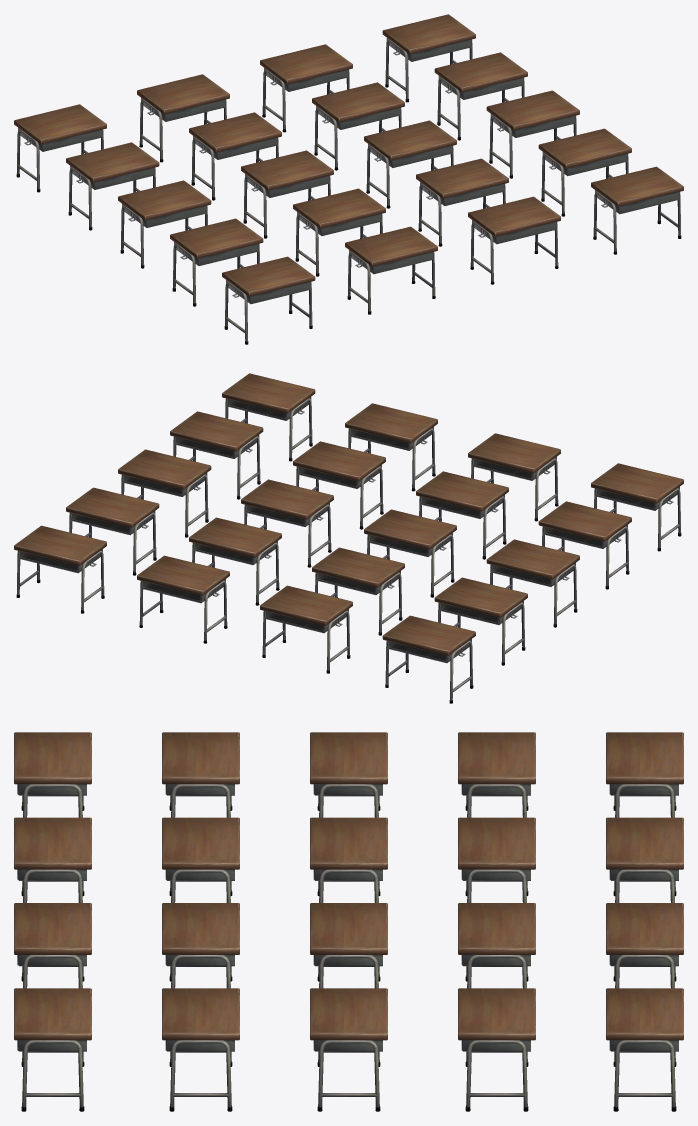
Rendered from Tables.fbx.
The picture shows the model from 3 angles, top to bottom: view 1: azimuth 30°, elevation 25°; view 2: azimuth 150°, elevation 25°; view 3: azimuth 270°, elevation 25°; orthographic projection. The views are drawn at different scales.
Parts seen in each view (by area): view 1: Cube; view 2: Cube; view 3: Cube.
Part boxes in pixels (left/top/right/bottom): Cube: left=14, top=14, right=683, bottom=344; Cube: left=14, top=373, right=683, bottom=703; Cube: left=14, top=732, right=683, bottom=1111.
Size of the model in its own units: 662 by 78.98 by 617.
